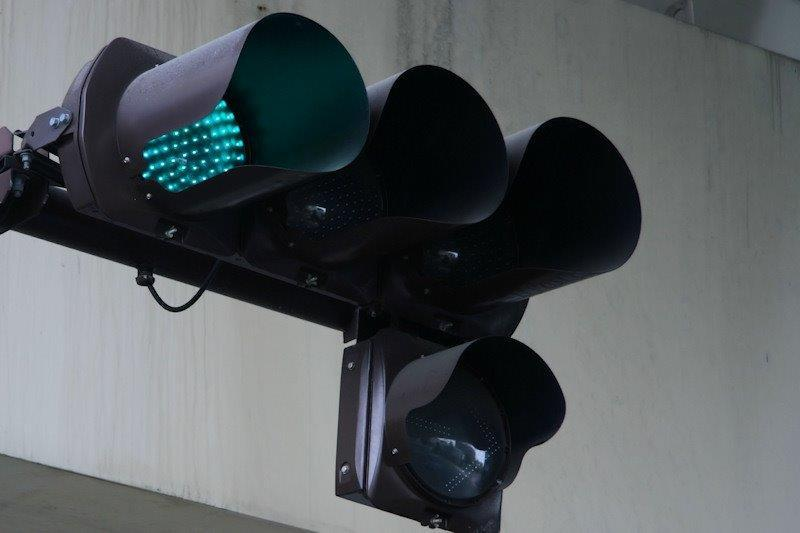cars: (84, 9, 640, 351)
